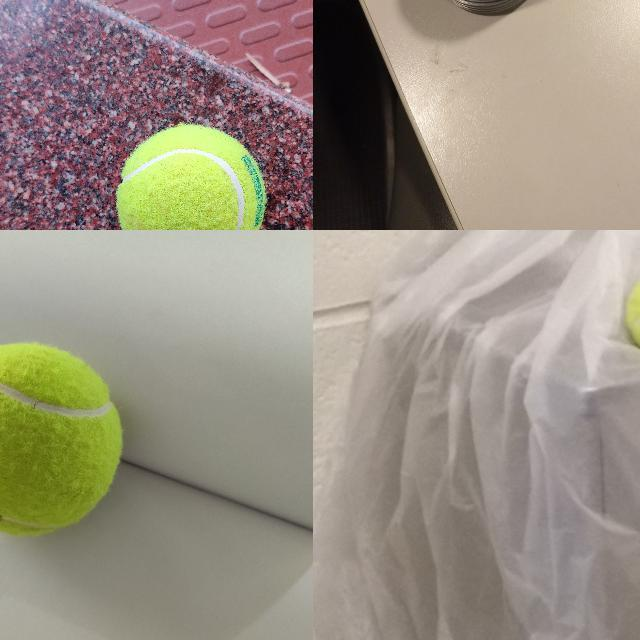tennis-ball: (0, 340, 125, 538), (116, 125, 265, 229)
